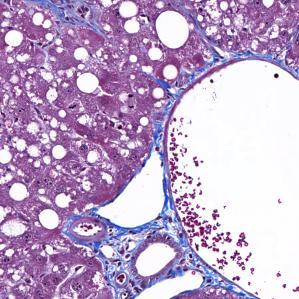fibrosis: (91, 221, 189, 284), (34, 0, 106, 35)
